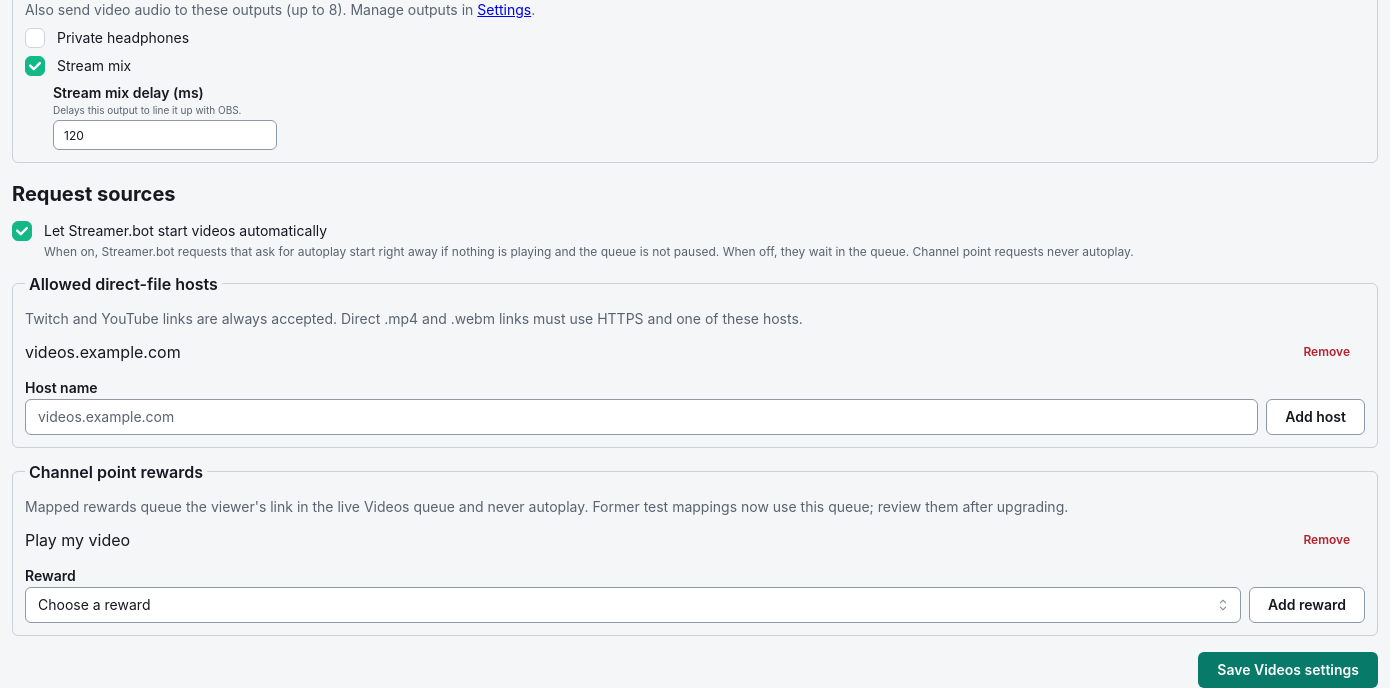
VideosPage › rejects invalid hosts and shows a server save failure
(page scrolled)
Type "https://bad/path" into the field labelled "Host name" at (642, 417), box [25,399,1258,435]
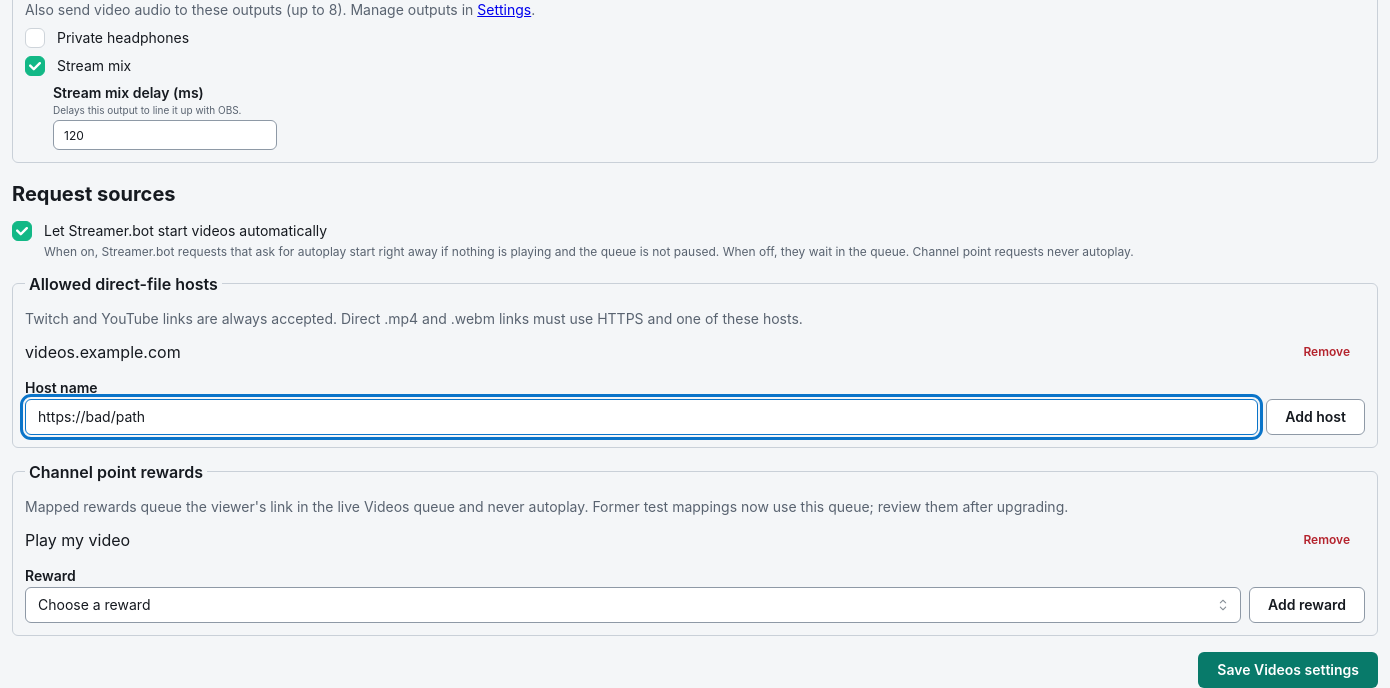
Click the button "Add host" at (1316, 417), box [1266,399,1365,435]
(page scrolled)
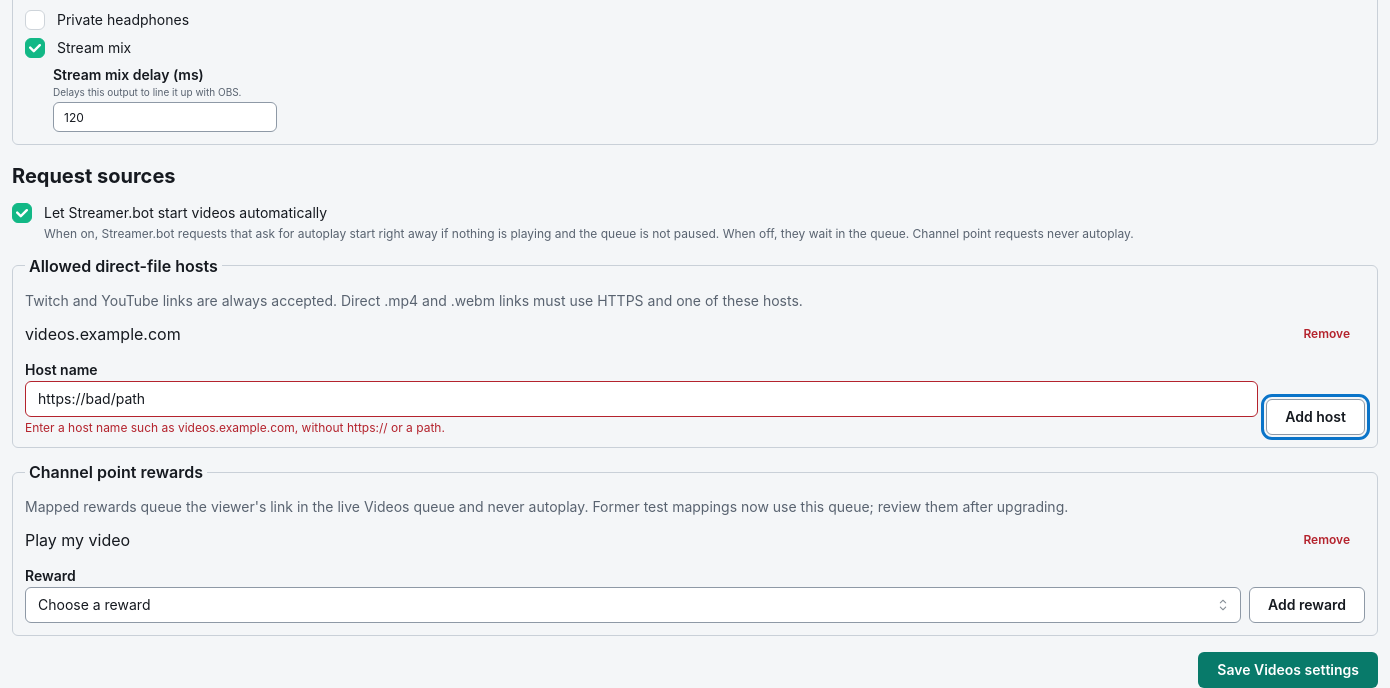
Click the button "Save Videos settings" at (1288, 670), box [1198,652,1378,687]
(page scrolled)
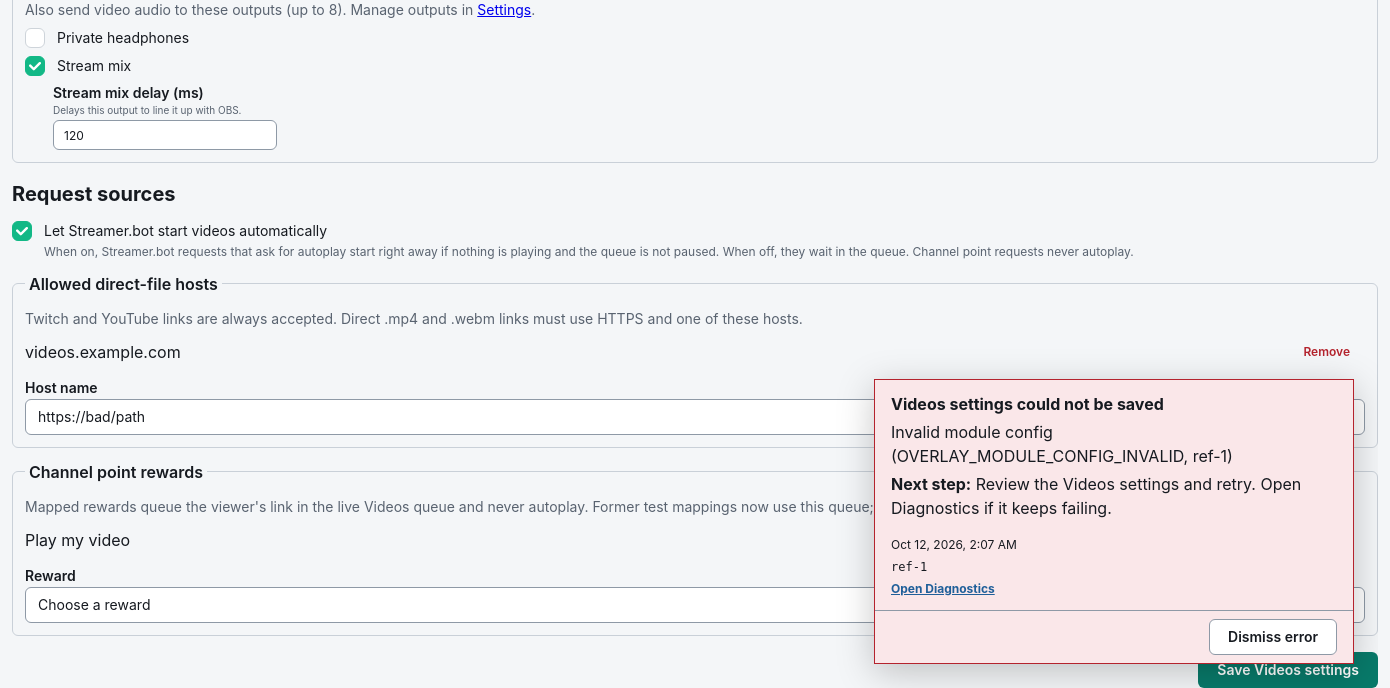
Check: the text "Videos settings could not be saved" is shown, box [891,394,1164,414]
Check: the text "ref-1" is shown, box [891,558,927,576]
